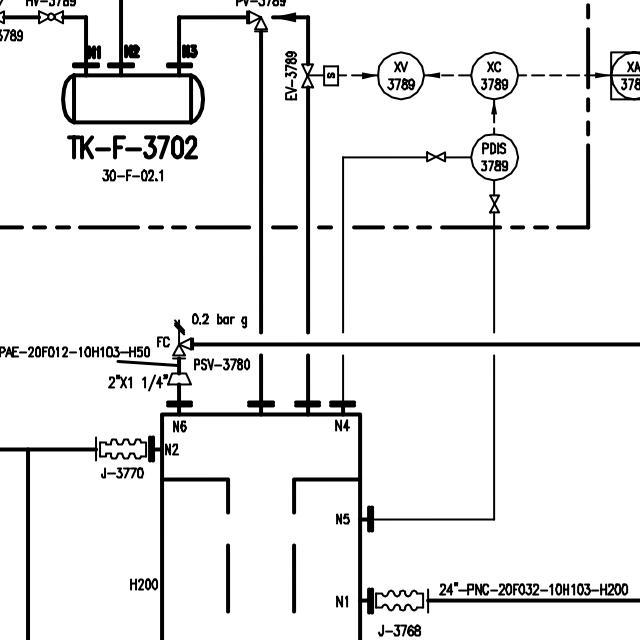BV2: (33, 6, 67, 26)
EJ: (370, 581, 431, 617), (91, 433, 152, 463)
GV: (424, 148, 447, 165), (486, 191, 502, 215)
RPV: (240, 7, 292, 33), (170, 317, 195, 361)
SP: (164, 369, 194, 389)
SV: (300, 61, 341, 93)
TK: (60, 70, 207, 128)
